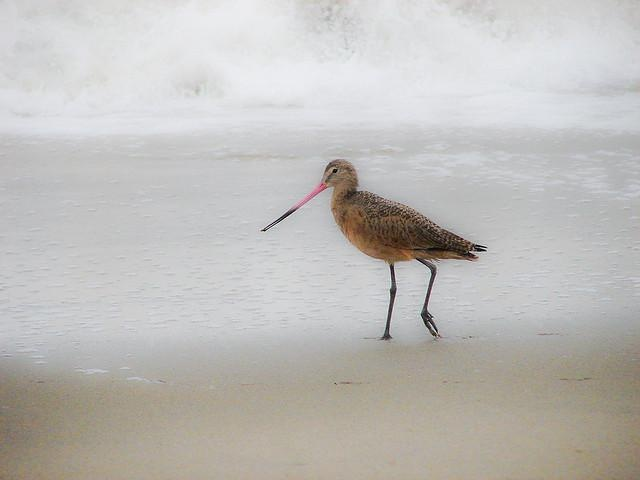bird: (255, 156, 494, 349)
